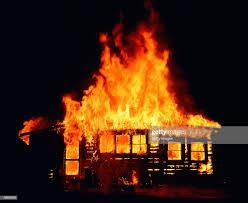fire: (27, 21, 228, 170)
